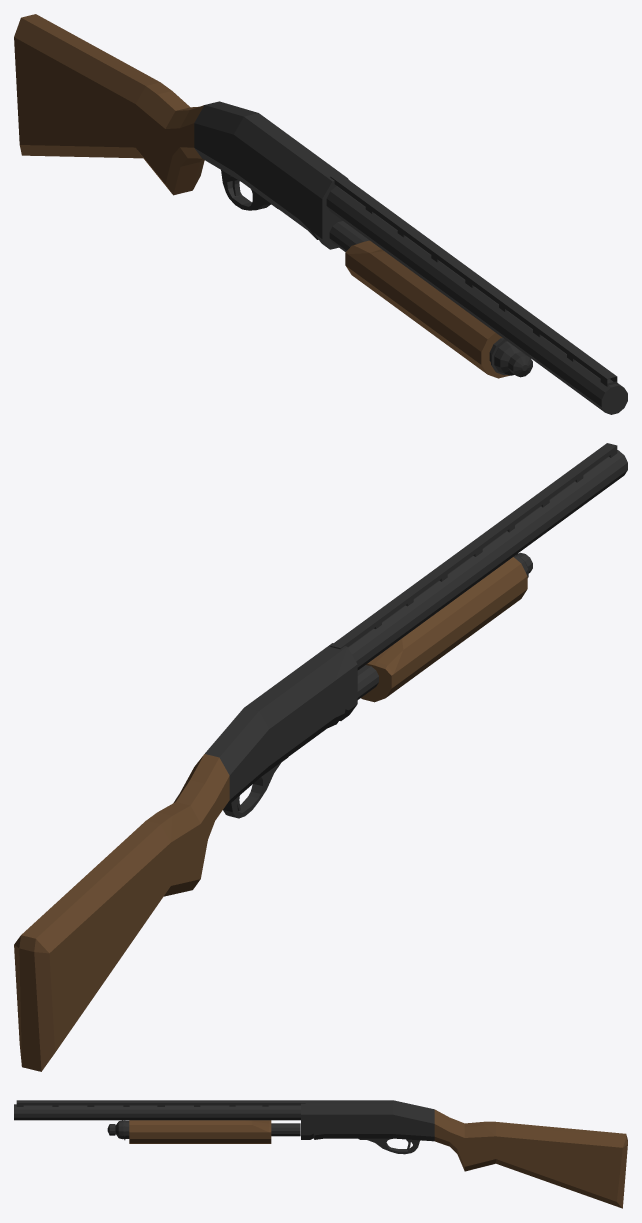
Rendered from shotgun.glb.
3 views of the same model, one above another, from view 1: azimuth 30°, elevation 25°; view 2: azimuth 150°, elevation 25°; view 3: azimuth 270°, elevation 25° (orthographic). The views are drawn at different scales.
Visible parts, largest first — view 1: shotgun; view 2: shotgun; view 3: shotgun.
Boxes of the visible parts, x1=… form: shotgun: x1=14, y1=14, x2=627, y2=414; shotgun: x1=14, y1=443, x2=627, y2=1071; shotgun: x1=14, y1=1100, x2=627, y2=1208.
Size of the model in its own units: 0.1803 by 0.7497 by 3.99.
